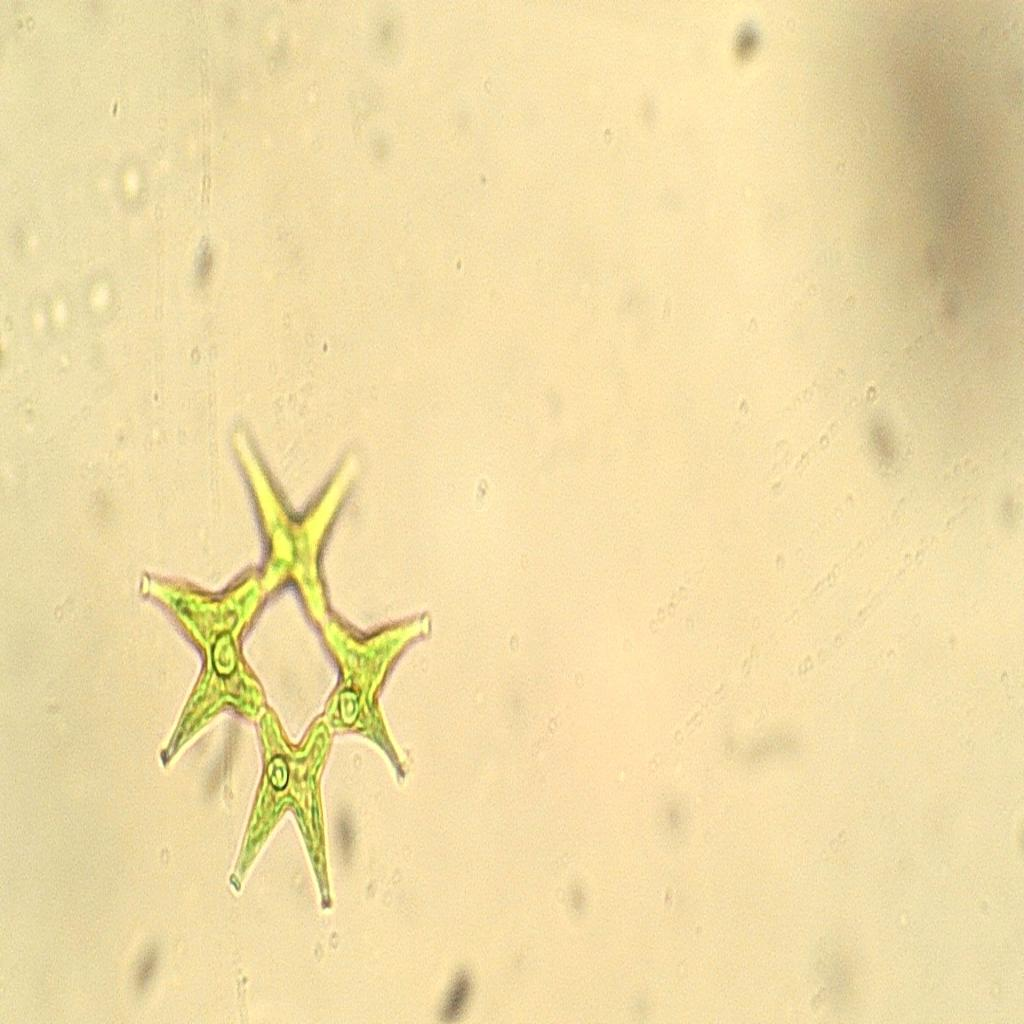Pediastrum_75O: (129, 387, 434, 931)
